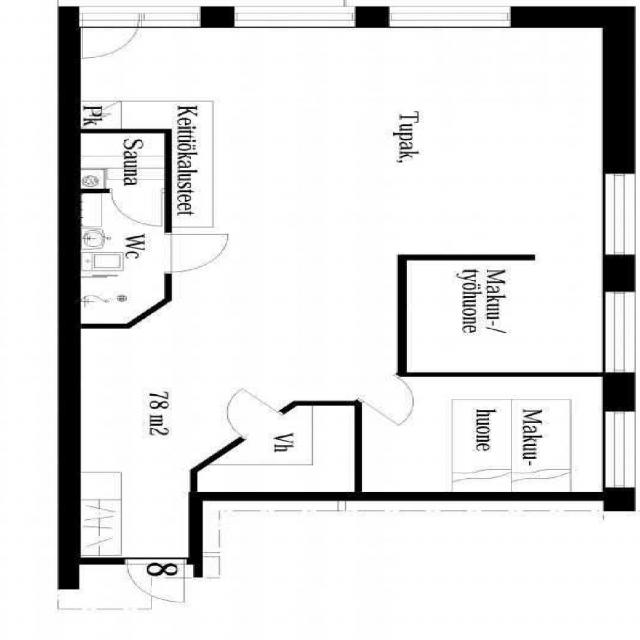door: (206, 389, 282, 440), (362, 376, 433, 422), (82, 6, 136, 63), (128, 557, 184, 602), (164, 234, 227, 272), (112, 188, 161, 226)
